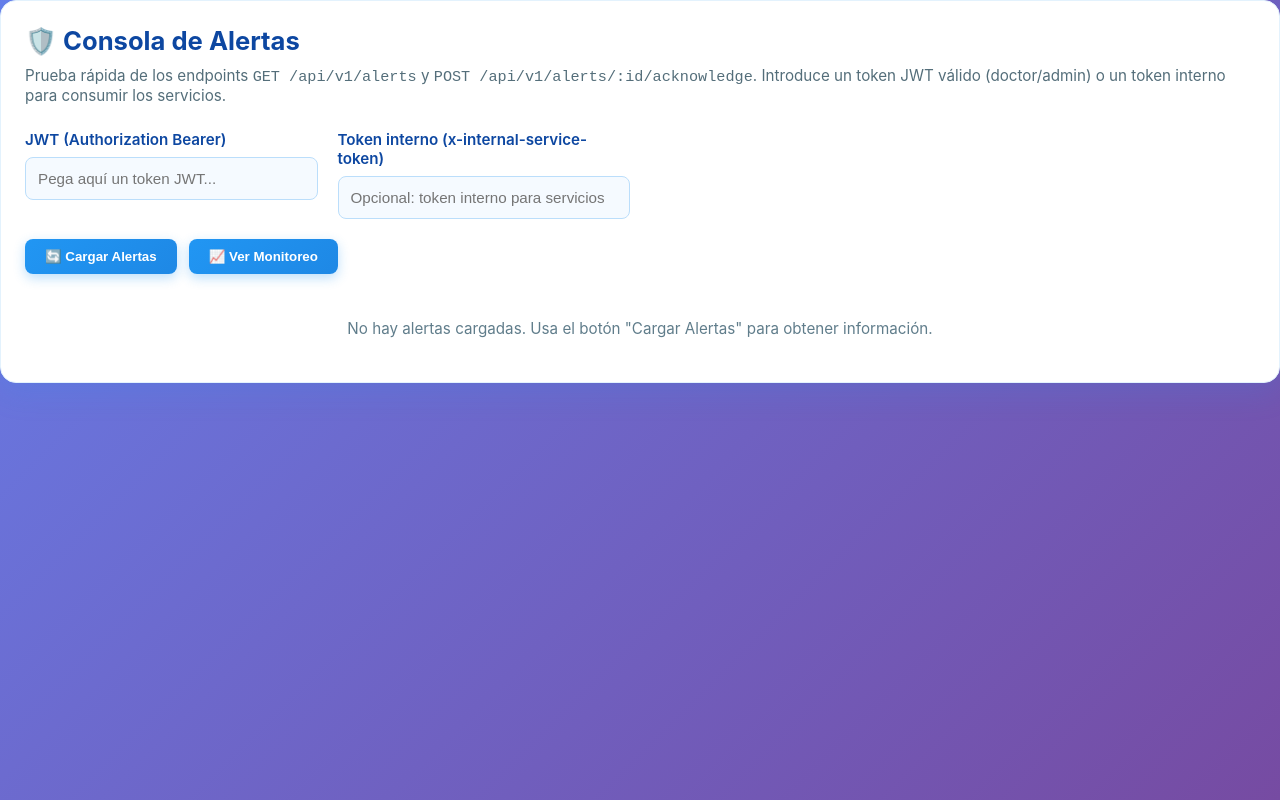
Test: AlertConsole › muestra tarjeta de monitoreo cuando hay datos
The width and height of the screenshot is (1280, 800).
Step 1. Click the button "📈 Ver Monitoreo" → (263, 256), box [189,239,338,274]
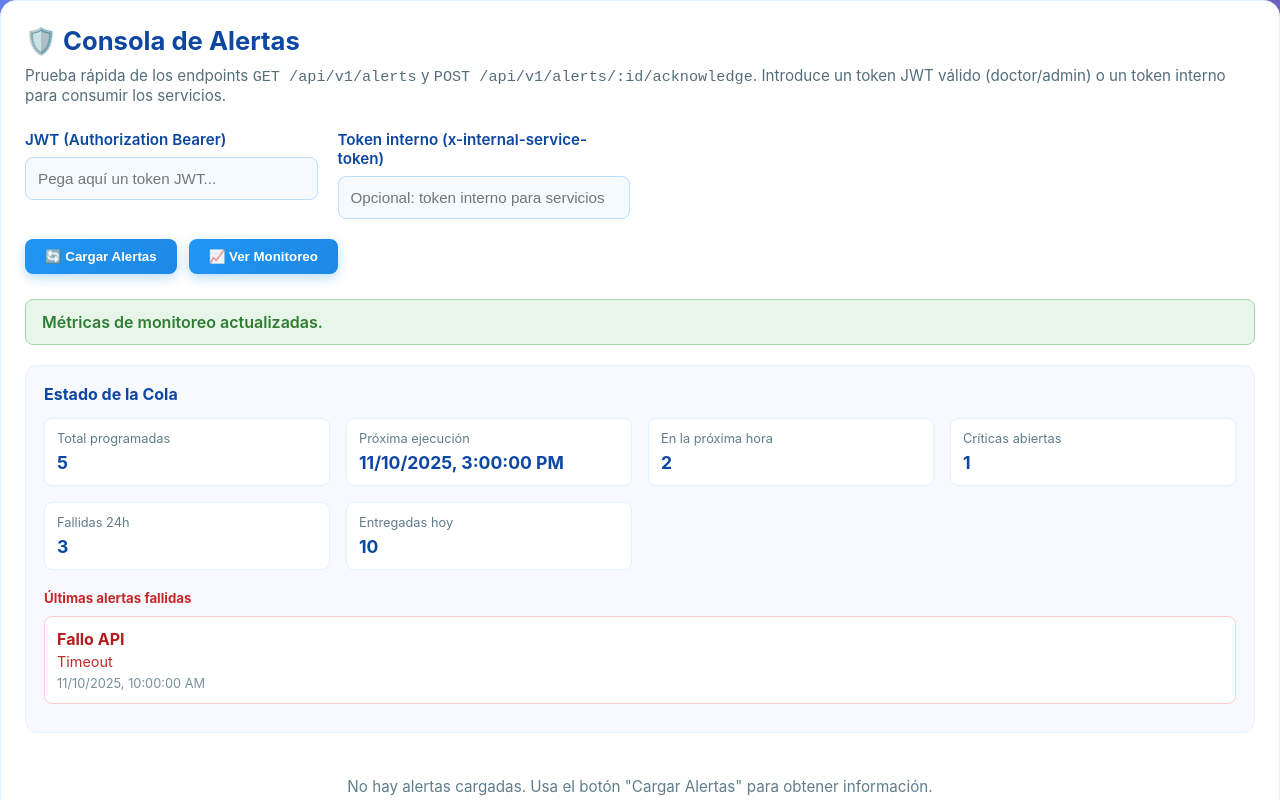
Expected: the heading "Estado de la Cola" is shown, [44,384,178,404]
Expected: the text "Total programadas" is shown, [57,431,170,446]
Expected: the text "Fallo API" is shown, [57,629,124,649]
